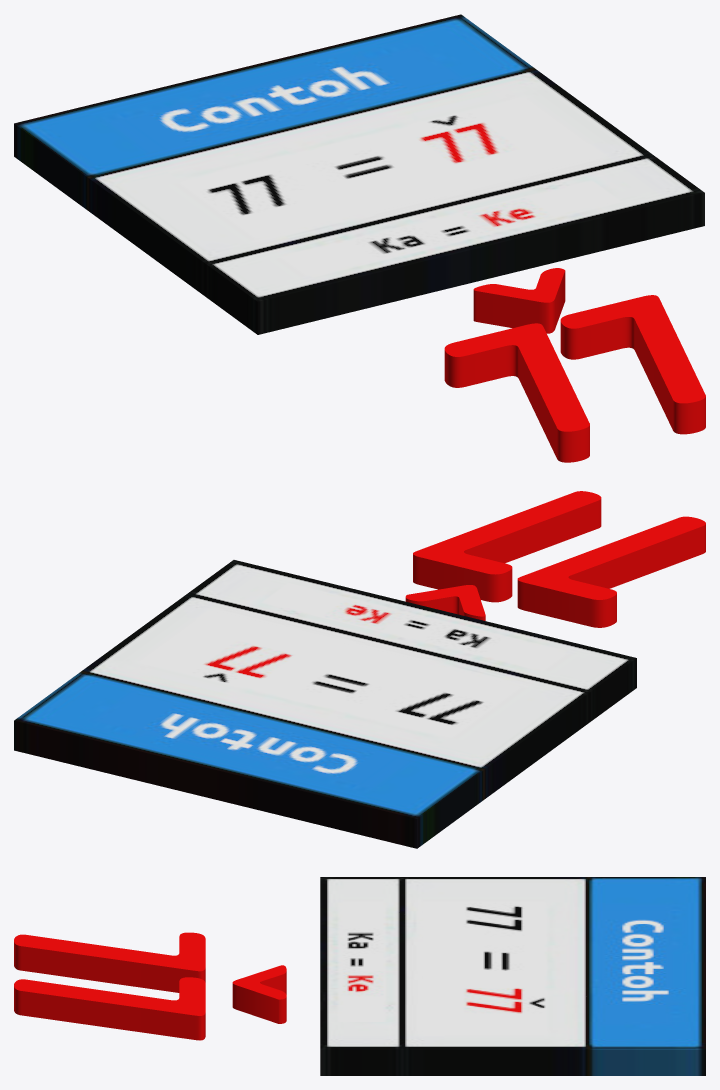
The picture shows the model from 3 angles, top to bottom: view 1: azimuth 30°, elevation 25°; view 2: azimuth 150°, elevation 25°; view 3: azimuth 270°, elevation 25°; orthographic projection. The views are drawn at different scales.
Visible parts, largest first — view 1: contoh-e-Rarangken, Text; view 2: contoh-e-Rarangken, Text; view 3: contoh-e-Rarangken, Text.
Part boxes in pixels (x1,y1,x2,y2): contoh-e-Rarangken: (14,14,704,334); Text: (444,268,705,462); contoh-e-Rarangken: (14,560,636,848); Text: (405,491,705,627); contoh-e-Rarangken: (320,877,705,1075); Text: (14,932,286,1040).
Bounding box in the file's own units: 106 × 11 × 179.
Materials: 2 (1 with a texture image).
